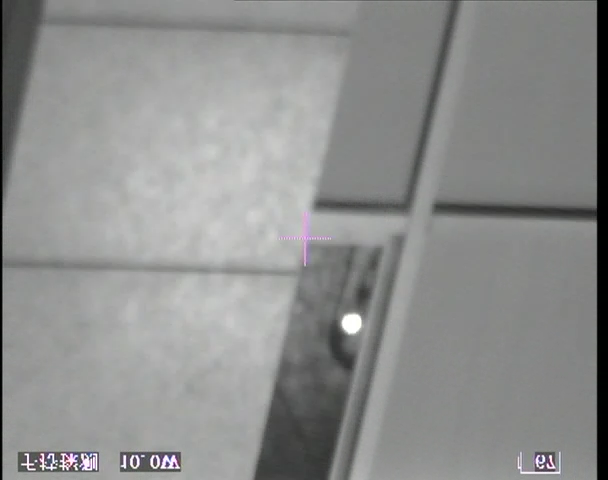my: (340, 311, 364, 336)
